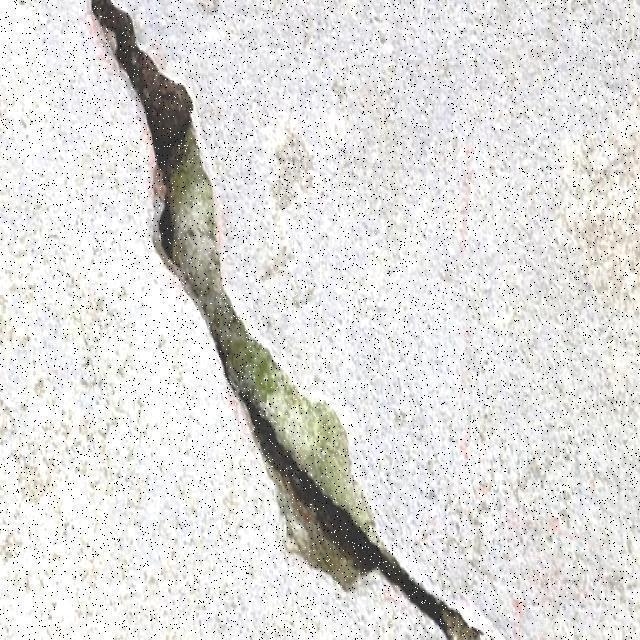crack: (87, 0, 485, 638), (1, 15, 193, 637)
